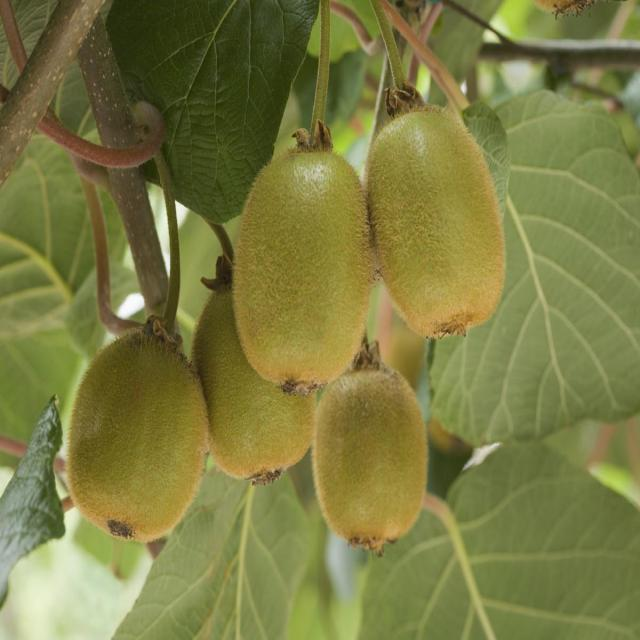kiwi: (223, 130, 385, 398), (363, 100, 518, 341), (65, 332, 217, 543), (185, 271, 328, 488), (314, 359, 434, 559)
